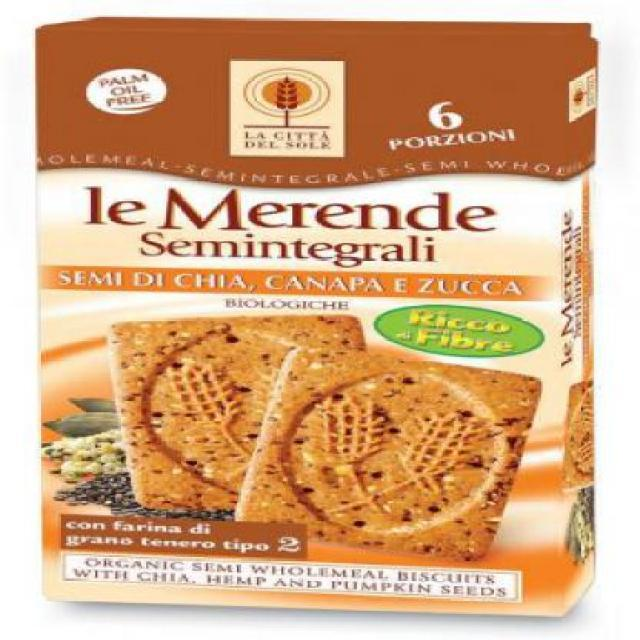Merendine: (16, 19, 600, 618)
